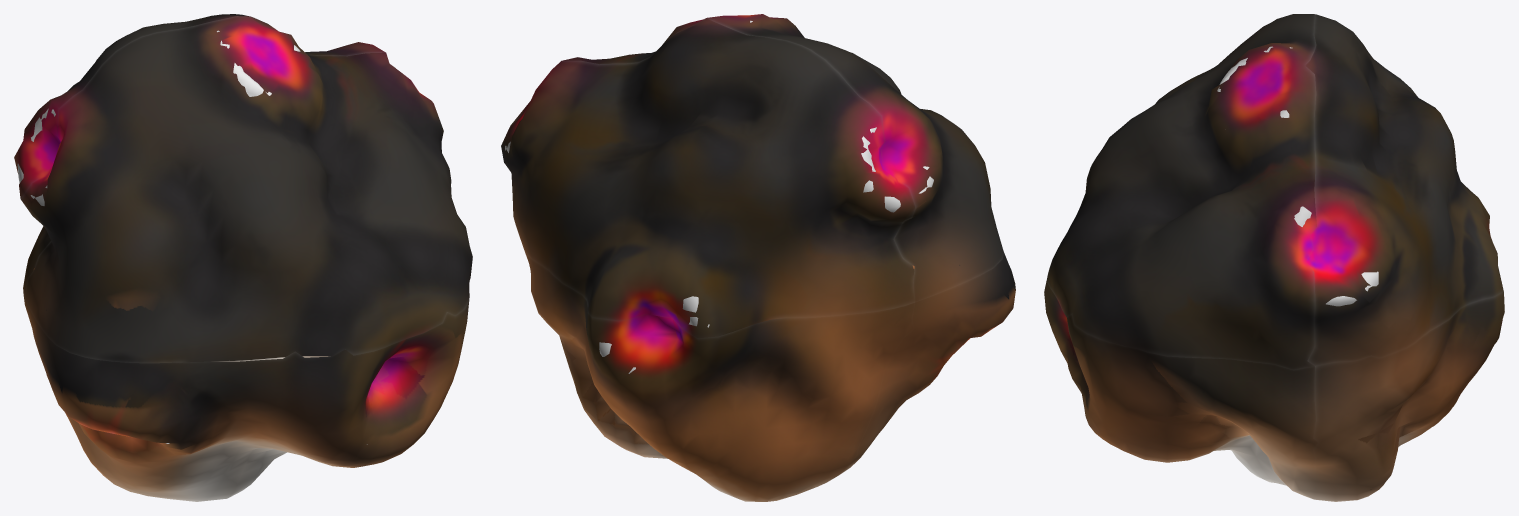
The model's file is asteroid.fbx.
The picture shows the model from 3 angles, left to right: view 1: azimuth 30°, elevation 25°; view 2: azimuth 150°, elevation 25°; view 3: azimuth 270°, elevation 25°; orthographic projection. The views are drawn at different scales.
Parts seen in each view (by area): view 1: Low Poly, High Poly; view 2: Low Poly, High Poly; view 3: Low Poly, High Poly.
Part boxes in pixels (x1,y1,x2,y2): Low Poly: (14,14,472,501); High Poly: (17,30,395,444); Low Poly: (501,14,1015,501); High Poly: (505,20,933,373); Low Poly: (1044,14,1504,501); High Poly: (1217,46,1378,306).
Bounding box in the file's own units: 2.65 × 2.52 × 2.67.
